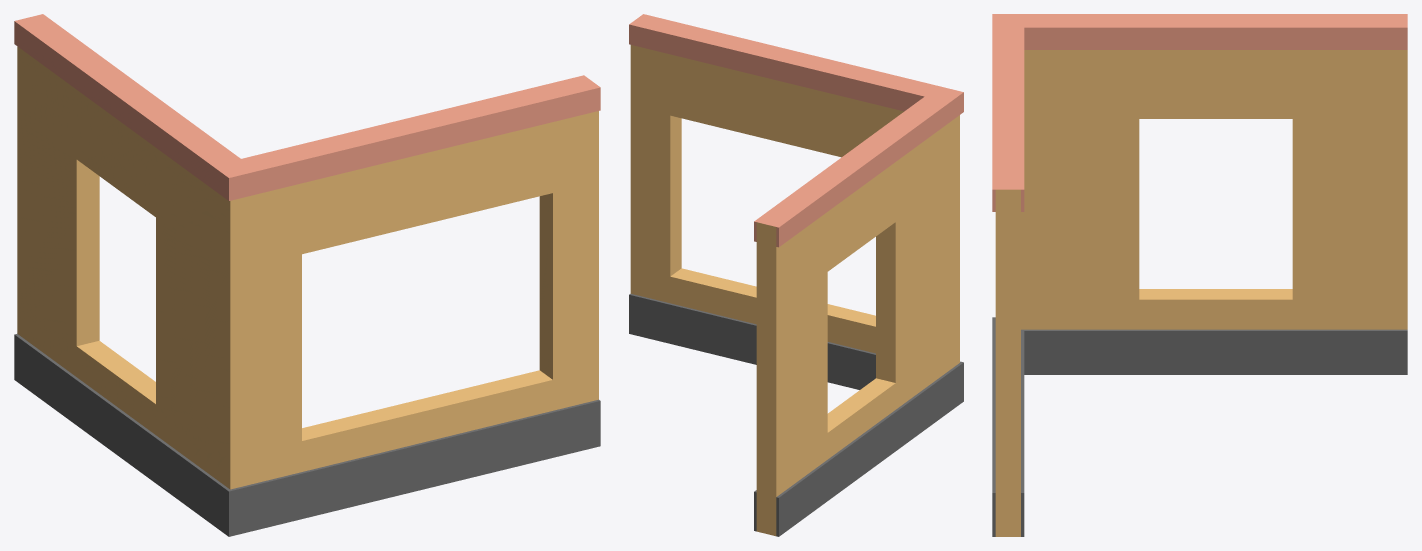
The model's file is Wall05-04.fbx.
3 renders of one model, left to right at view 1: azimuth 30°, elevation 25°; view 2: azimuth 150°, elevation 25°; view 3: azimuth 270°, elevation 25°, orthographic. The views are drawn at different scales.
Parts seen in each view (by area): view 1: Wall05-04; view 2: Wall05-04; view 3: Wall05-04.
Boxes of the visible parts, x1,y1,x2,y2 form: Wall05-04: [14, 14, 600, 536]; Wall05-04: [629, 14, 963, 536]; Wall05-04: [992, 14, 1407, 536].
Size of the model in its own units: 3.25 by 3.25 by 3.
